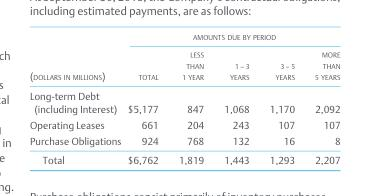table: (28, 29, 341, 165)
table column: (28, 29, 123, 165), (168, 29, 214, 165), (259, 29, 305, 165), (123, 29, 168, 165), (214, 29, 259, 165), (305, 29, 341, 165)
table column header: (28, 29, 341, 85)
table row: (28, 43, 341, 85), (28, 85, 341, 116), (28, 132, 341, 149), (28, 116, 341, 132), (28, 149, 341, 165), (28, 29, 341, 43)
table spanning cell: (28, 29, 123, 85), (123, 29, 341, 43)
